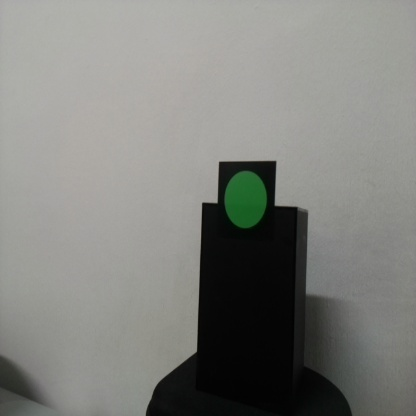id_5: (219, 163, 276, 244)
